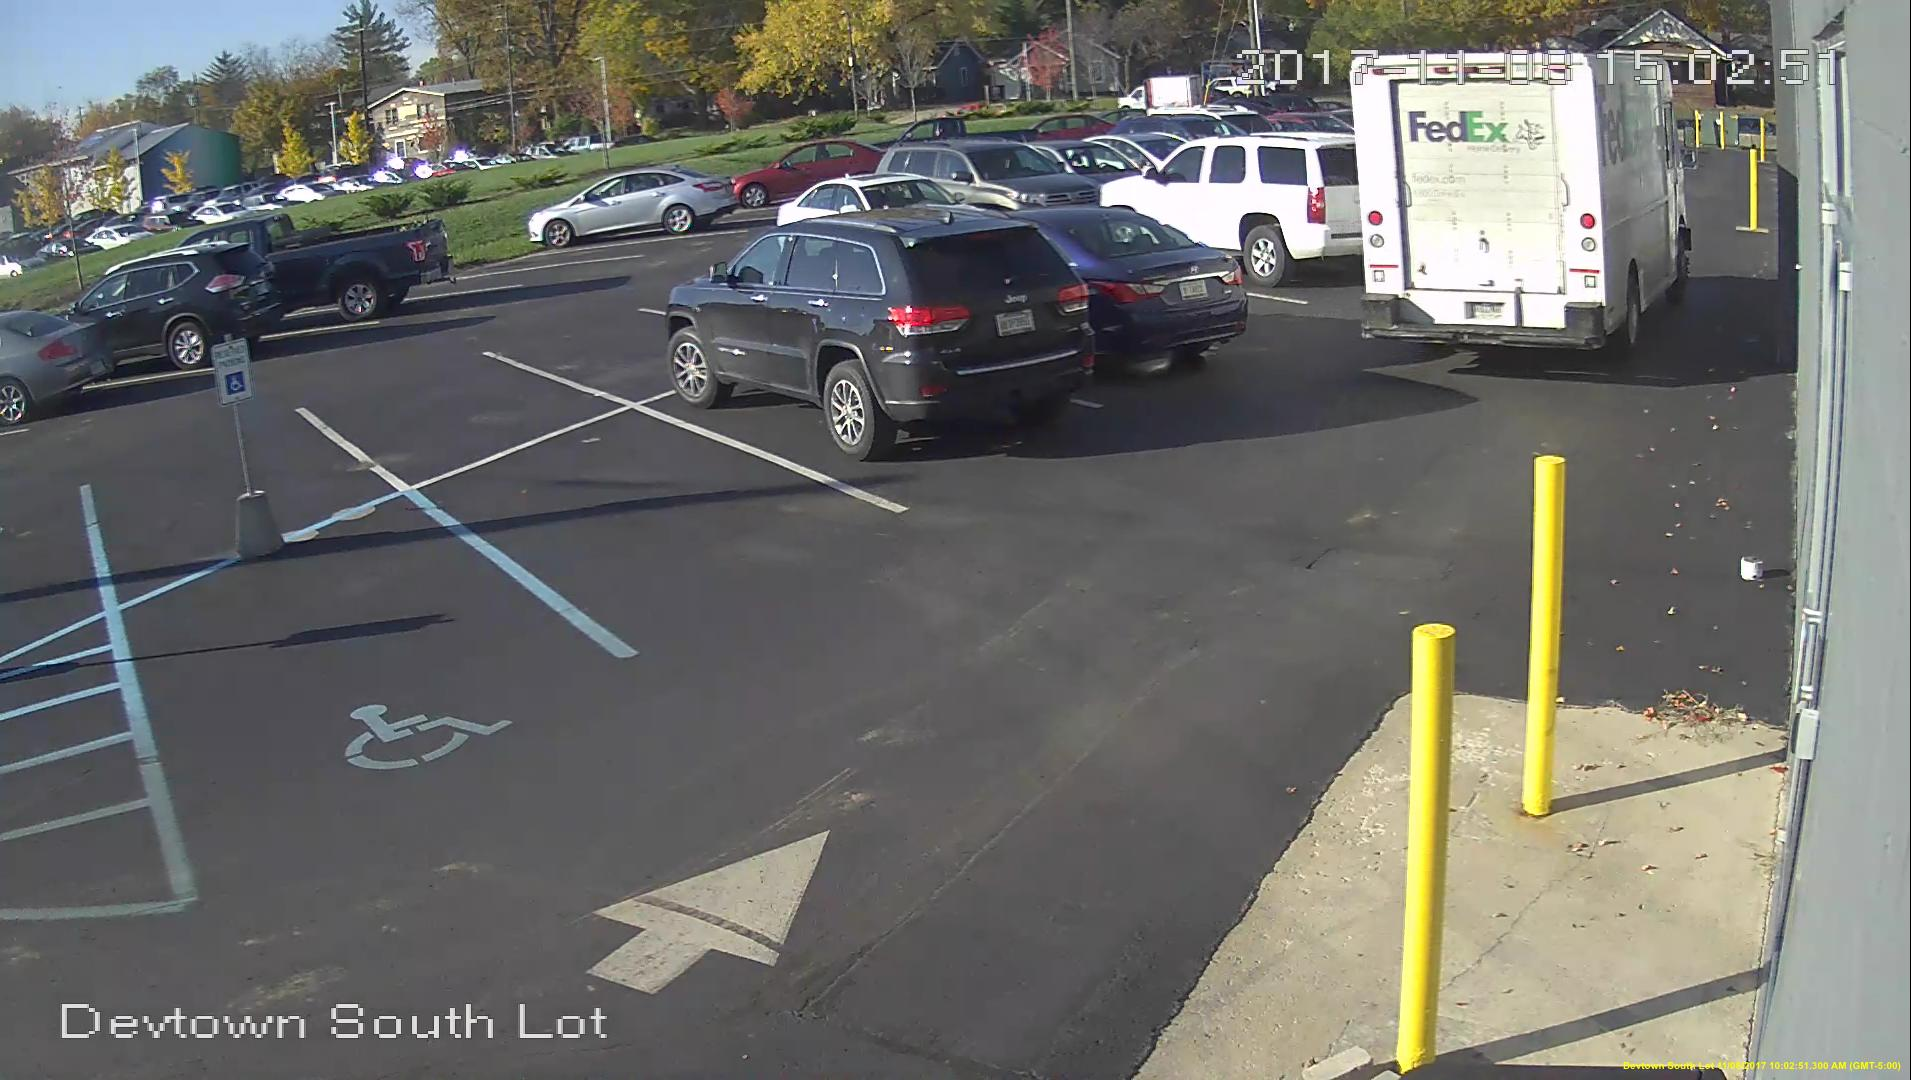fedex_truck: (1343, 49, 1698, 346)
